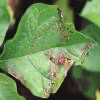Potato leaf late blight: (1, 3, 99, 97)
